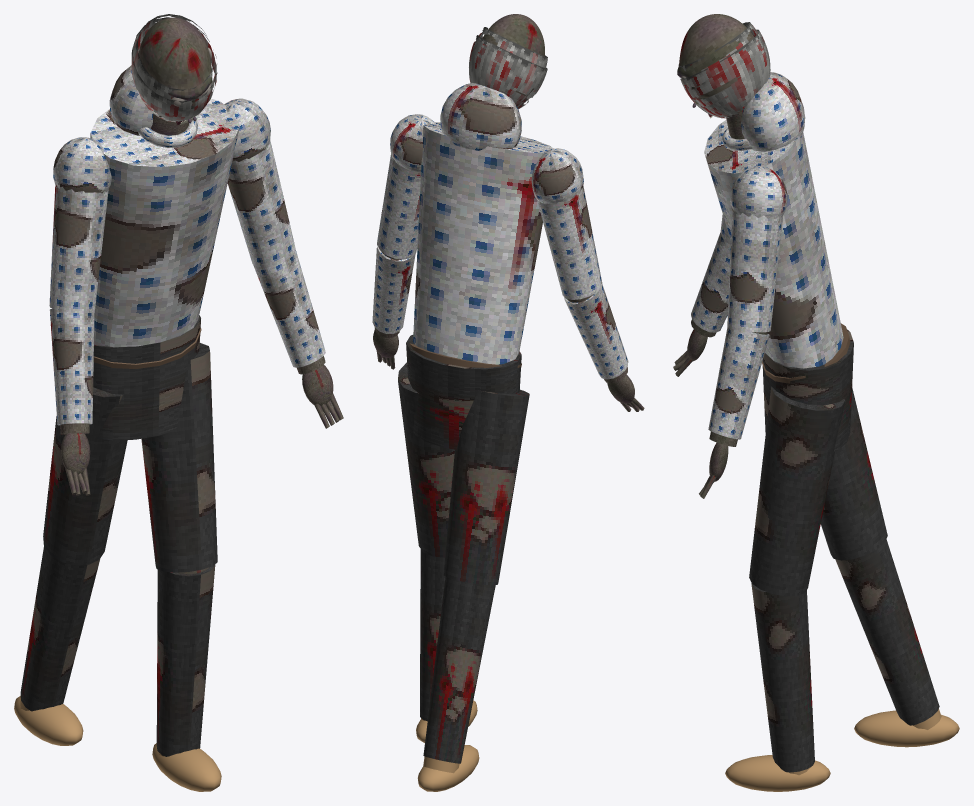
Rendered from Zombie_133.glb.
3 views of the same model, side by side, from view 1: azimuth 30°, elevation 25°; view 2: azimuth 150°, elevation 25°; view 3: azimuth 270°, elevation 25° (orthographic). The views are drawn at different scales.
Parts seen in each view (by area): view 1: Zombie_133, object 4, object 18, object 12, object 44, object 43, object 5, object 13; view 2: Zombie_133, object 4, object 44, object 12, object 18, object 43, object 5, object 13; view 3: Zombie_133, object 12, object 44, object 18, object 4, object 43, object 13.
Part boxes in pixels (x1,y1,x2,y2): Zombie_133: [14, 65, 295, 791]; object 4: [49, 308, 94, 425]; object 18: [138, 17, 212, 117]; object 12: [253, 250, 325, 367]; object 44: [131, 17, 217, 122]; object 43: [133, 14, 215, 113]; object 5: [61, 433, 90, 474]; object 13: [302, 365, 333, 405]; Zombie_133: [377, 83, 602, 791]; object 4: [564, 284, 628, 379]; object 44: [469, 35, 547, 109]; object 12: [372, 245, 415, 333]; object 18: [482, 14, 544, 97]; object 43: [475, 27, 547, 103]; object 5: [607, 374, 634, 403]; object 13: [373, 329, 398, 357]; Zombie_133: [704, 72, 959, 791]; object 12: [708, 327, 769, 439]; object 44: [679, 29, 770, 118]; object 18: [677, 14, 753, 104]; object 4: [691, 232, 730, 332]; object 43: [678, 22, 763, 106]; object 13: [709, 442, 728, 481].
Size of the model in its own units: 0.7511 by 2 by 0.6915.
Materials: 16 (6 with a texture image).
